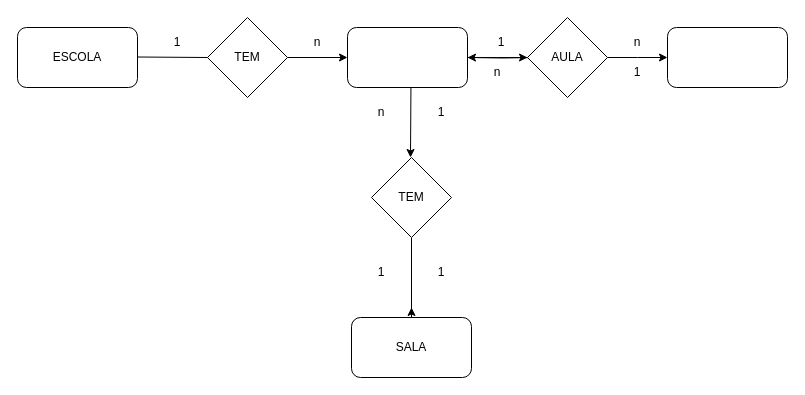
This 805x395 diagram has some shape labels left out. The shapes that lost their labels are listed below. From the top down, each one's centre as x and y in pixels, then its label:
point 407,57: TURMA
point 727,57: PROFESSORES
